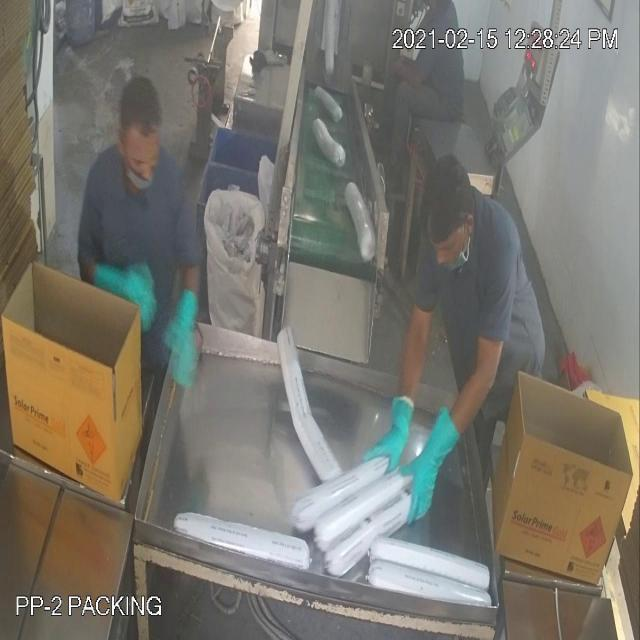Gloves: (48, 44, 432, 464)
